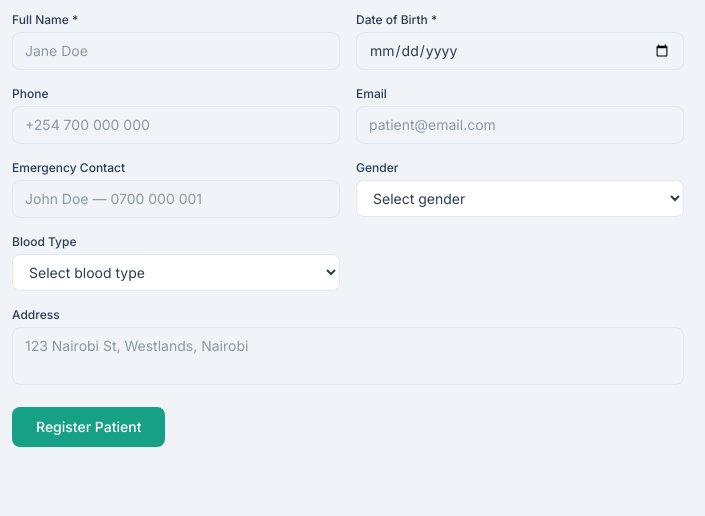
RegisterPatientForm › updates entered values and shows current placeholder service error on submit
Type "Amina Patient" into the field labelled "Full Name *".
click(176, 51); type("Amina Patient")  # box x1=12 y1=32 x2=340 y2=70
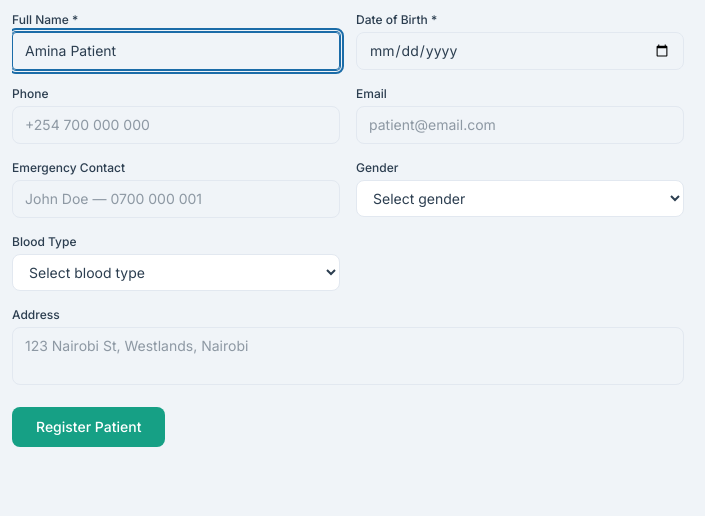
Type "+254700000000" into the field labelled "Phone".
click(176, 125); type("+254700000000")  # box x1=12 y1=106 x2=340 y2=144
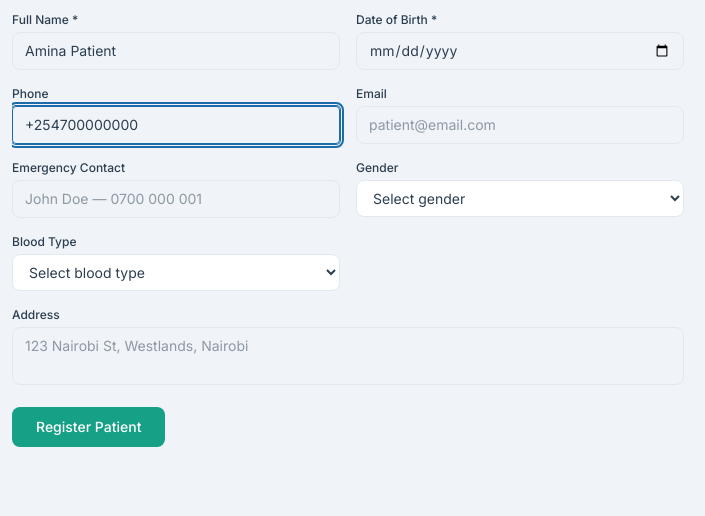
Select "Female" in the dropdown labelled "Gender" at (520, 198), box x1=356 y1=180 x2=684 y2=217
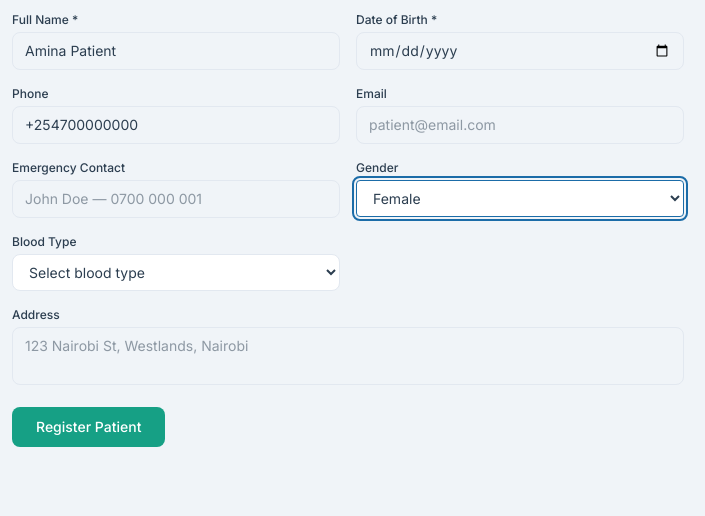
Select "O+" in the dropdown labelled "Blood Type" at (176, 272), box x1=12 y1=254 x2=340 y2=291
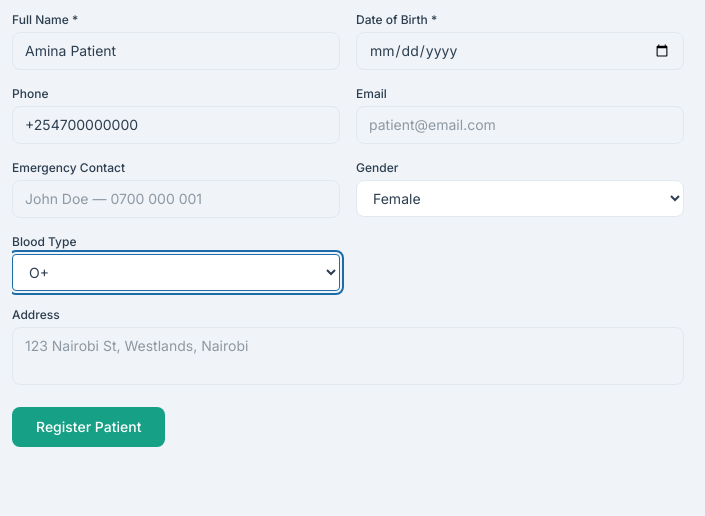
Type "Nairobi" into the text box labelled "Address".
click(348, 356); type("Nairobi")  # box x1=12 y1=327 x2=684 y2=385
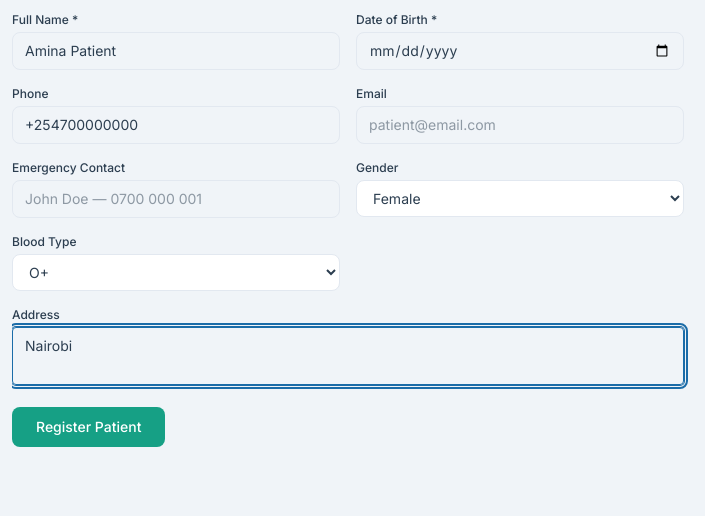
Click the button "Register Patient".
click(89, 427)  # box x1=12 y1=407 x2=165 y2=447
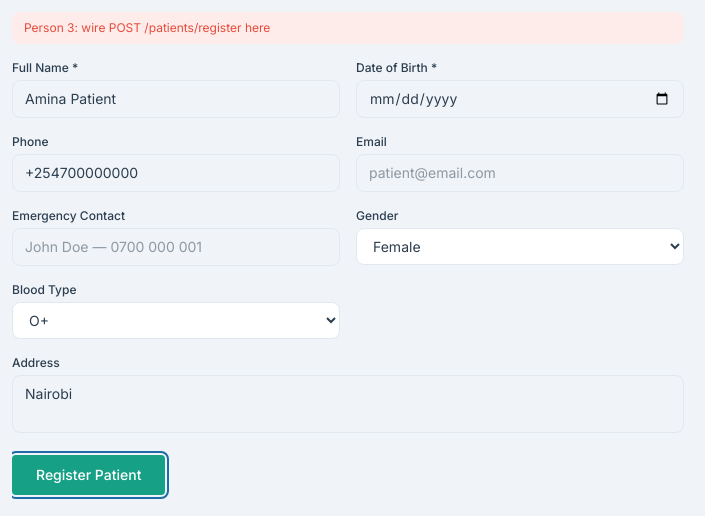
Result: the text "Person 3: wire POST /patients/register here" is shown at x1=12 y1=12 x2=684 y2=44
